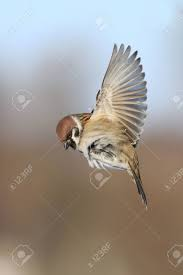hsparrow: (49, 36, 163, 224)
